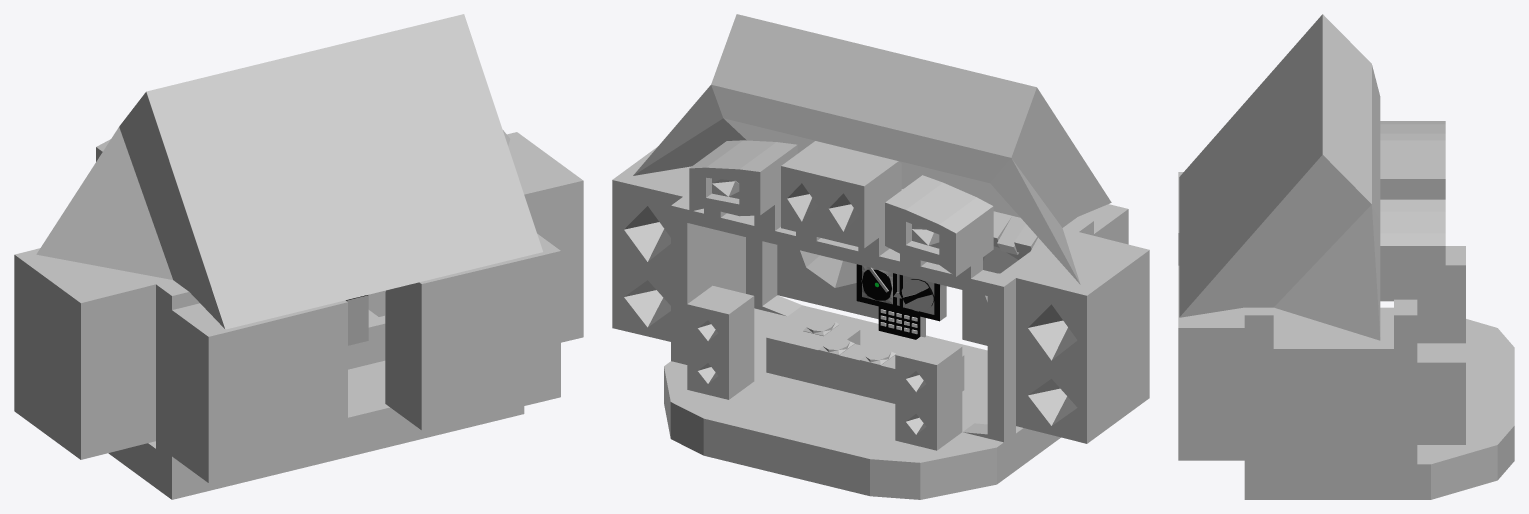
Rendered from Boss.obj.
3 views of the same model, side by side, from view 1: azimuth 30°, elevation 25°; view 2: azimuth 150°, elevation 25°; view 3: azimuth 270°, elevation 25° (orthographic). The views are drawn at different scales.
Parts seen in each view (by area): view 1: Cube, 立方体; view 2: Cube, 立方体; view 3: Cube.
Part boxes in pixels (x1,y1,x2,y2): Cube: [14, 14, 583, 499]; 立方体: [346, 295, 368, 345]; Cube: [612, 14, 1149, 499]; 立方体: [856, 264, 946, 339]; Cube: [1178, 14, 1514, 499].
Bounding box in the file's own units: 7.16 × 5.07 × 4.58.
Materials: 2 (1 with a texture image).
